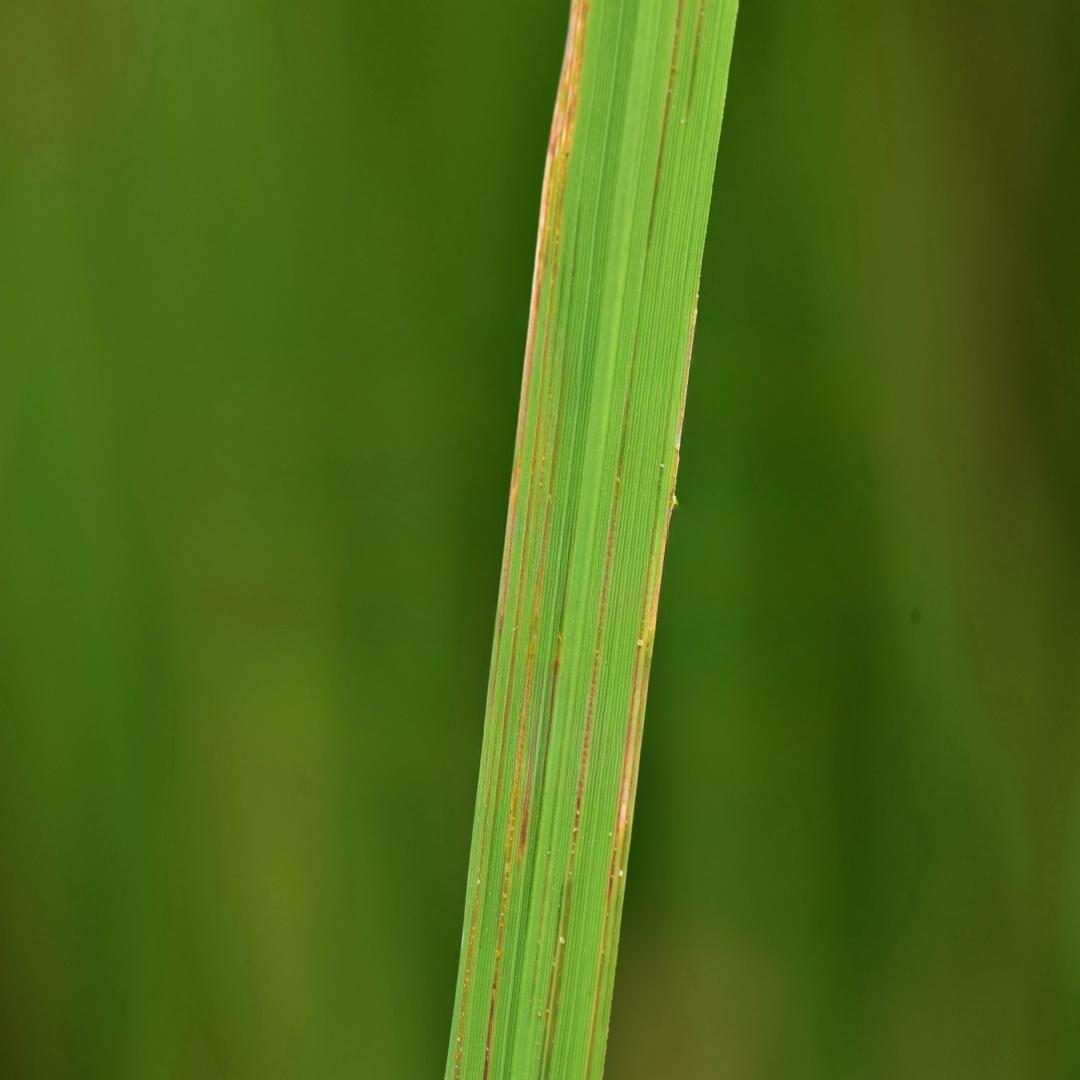BLS: (586, 275, 701, 1079), (489, 0, 590, 822), (483, 253, 574, 1079), (547, 351, 634, 1070), (645, 0, 685, 252), (532, 270, 564, 560), (453, 825, 487, 1079), (537, 631, 563, 831), (519, 674, 544, 871), (527, 829, 551, 1017), (542, 887, 563, 1054), (683, 0, 705, 130)
